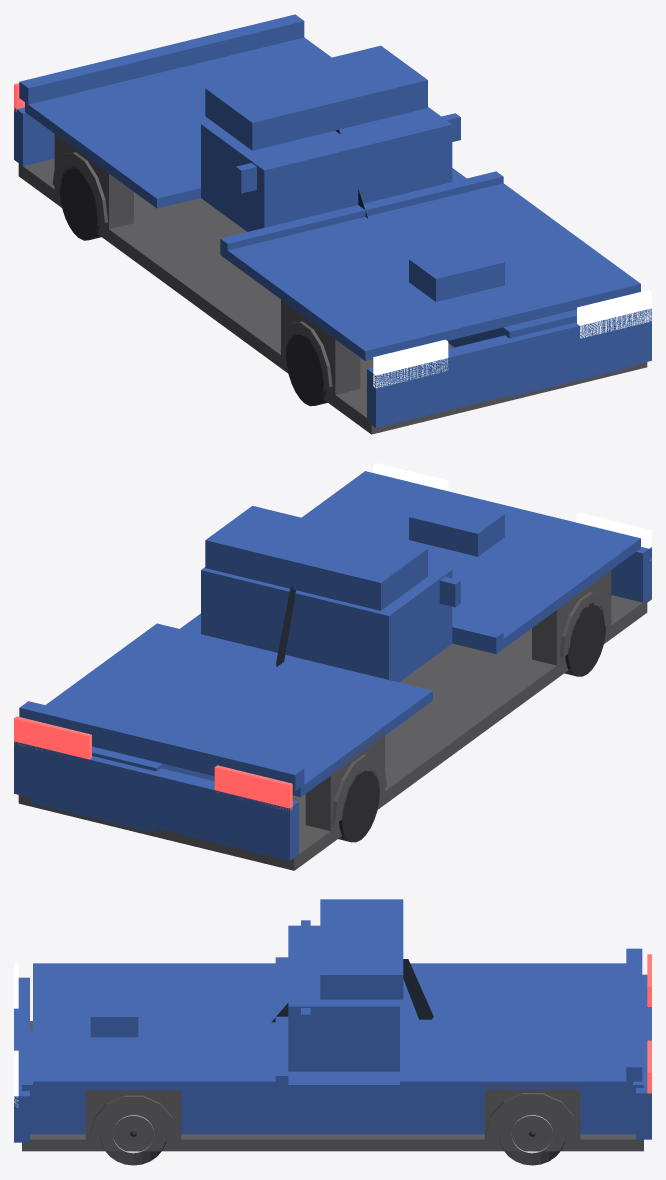
Rendered from muscle_car.glb.
3 views of the same model, one above another, from view 1: azimuth 30°, elevation 25°; view 2: azimuth 150°, elevation 25°; view 3: azimuth 270°, elevation 25° (orthographic). The views are drawn at different scales.
Parts seen in each view (by area): view 1: MC_Hood, MC_Cabin, MC_Trunk, MC_Rocker, MC_BumperF, MC_Roof, MC_Ducktail, MC_Headlight, MC_Scoop, MC_Cowl, MC_WellF, MCW_Tire_RL (+7 smaller); view 2: MC_Trunk, MC_Hood, MC_Rocker, MC_Cabin, MC_BumperR, MC_Roof, MC_Ducktail, MC_Taillight, MC_Scoop, MC_WellR, MC_WellF, MCW_Tire_RL (+9 smaller); view 3: MC_Hood, MC_Trunk, BodyLower, MC_Cabin, MC_Rocker, MC_Roof, MC_WellR, MC_WellF, MC_Scoop, MC_Ducktail, MC_BumperF, MC_Cowl (+8 smaller).
Part boxes in pixels (x1,y1,x2,y2): MC_Hood: [222, 183, 640, 360]; MC_Cabin: [201, 107, 452, 231]; MC_Trunk: [25, 37, 331, 208]; MC_Rocker: [18, 158, 647, 434]; MC_BumperF: [367, 308, 651, 427]; MC_Roof: [205, 45, 427, 150]; MC_Ducktail: [19, 14, 304, 104]; MC_Headlight: [373, 290, 651, 388]; MC_Scoop: [409, 242, 504, 301]; MC_Cowl: [220, 171, 503, 259]; MC_WellF: [281, 299, 360, 397]; MCW_Tire_RL: [59, 166, 101, 240]; MC_Trunk: [45, 623, 432, 797]; MC_Hood: [302, 471, 640, 648]; MC_Rocker: [18, 595, 647, 870]; MC_Cabin: [201, 564, 452, 682]; MC_BumperR: [14, 741, 298, 860]; MC_Roof: [205, 506, 427, 610]; MC_Ducktail: [19, 701, 304, 791]; MC_Taillight: [14, 716, 292, 810]; MC_Scoop: [409, 497, 504, 556]; MC_WellR: [305, 729, 384, 836]; MC_WellF: [532, 570, 611, 665]; MCW_Tire_RL: [338, 768, 379, 842]; MC_Hood: [33, 963, 284, 1090]; MC_Trunk: [400, 963, 632, 1090]; BodyLower: [22, 1031, 643, 1134]; MC_Cabin: [288, 925, 399, 1071]; MC_Rocker: [22, 1021, 643, 1151]; MC_Roof: [320, 899, 403, 999]; MC_WellR: [484, 1084, 580, 1145]; MC_WellF: [85, 1090, 181, 1145]; MC_Scoop: [90, 987, 138, 1037]; MC_Ducktail: [626, 948, 642, 1081]; MC_BumperF: [14, 977, 29, 1142]; MC_Cowl: [275, 957, 288, 1090].
Bounding box in the file's own units: 1.8 × 1.16 × 4.
